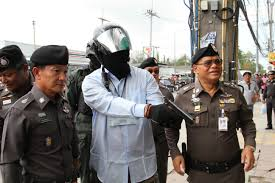Helmet: (87, 22, 139, 68)
gun: (155, 96, 200, 129)
